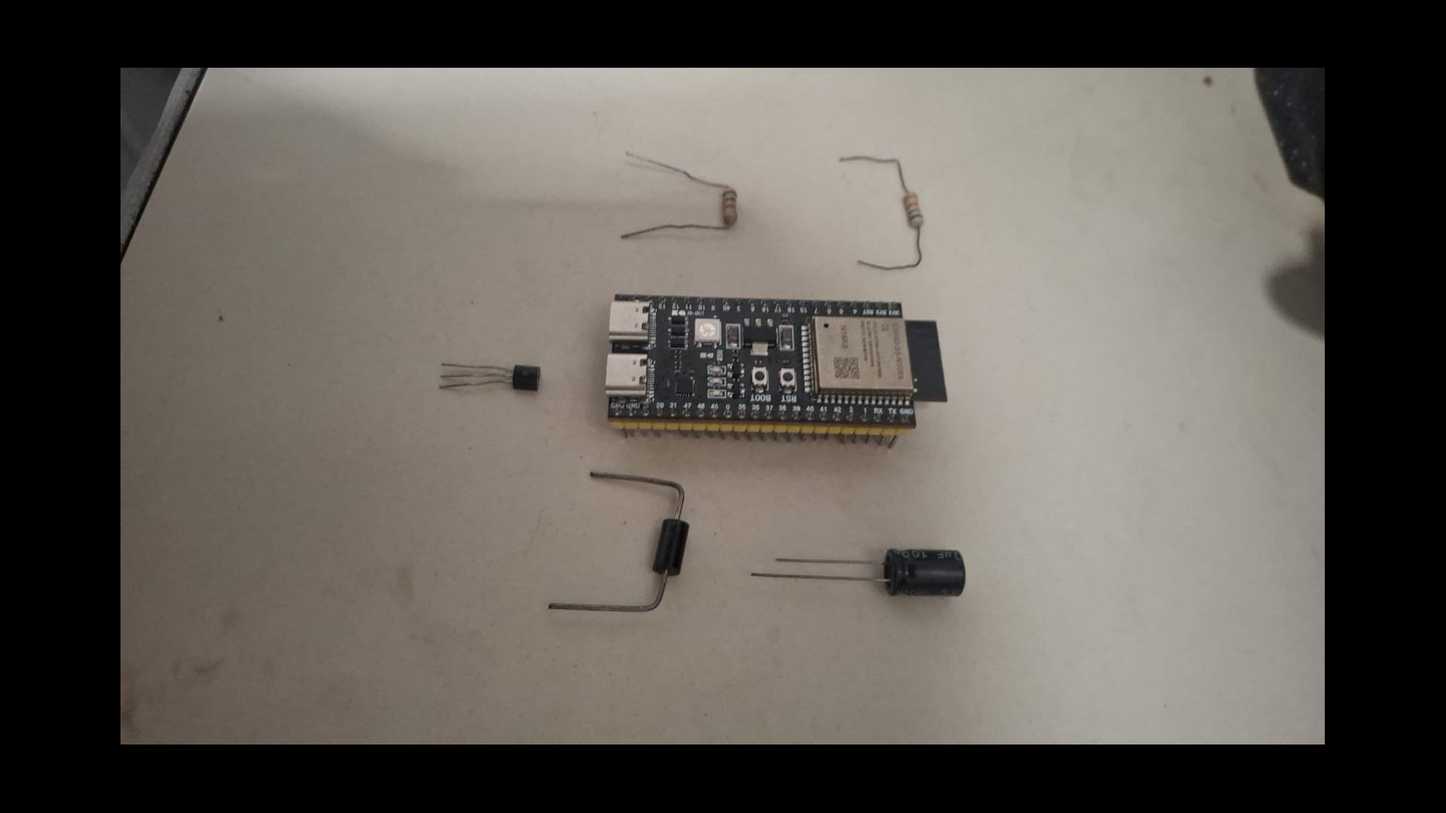Capacitor: (751, 547, 967, 599)
Diodo: (549, 471, 690, 613)
ESP32: (606, 295, 947, 448)
Resistencia: (619, 150, 739, 239), (839, 155, 924, 271)
Transistor: (440, 363, 541, 392)
